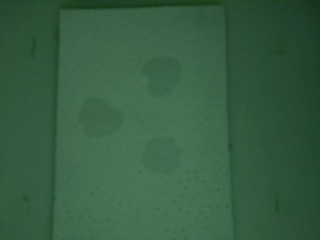Water_detected: (138, 136, 184, 181), (76, 100, 116, 140), (146, 50, 181, 85)
